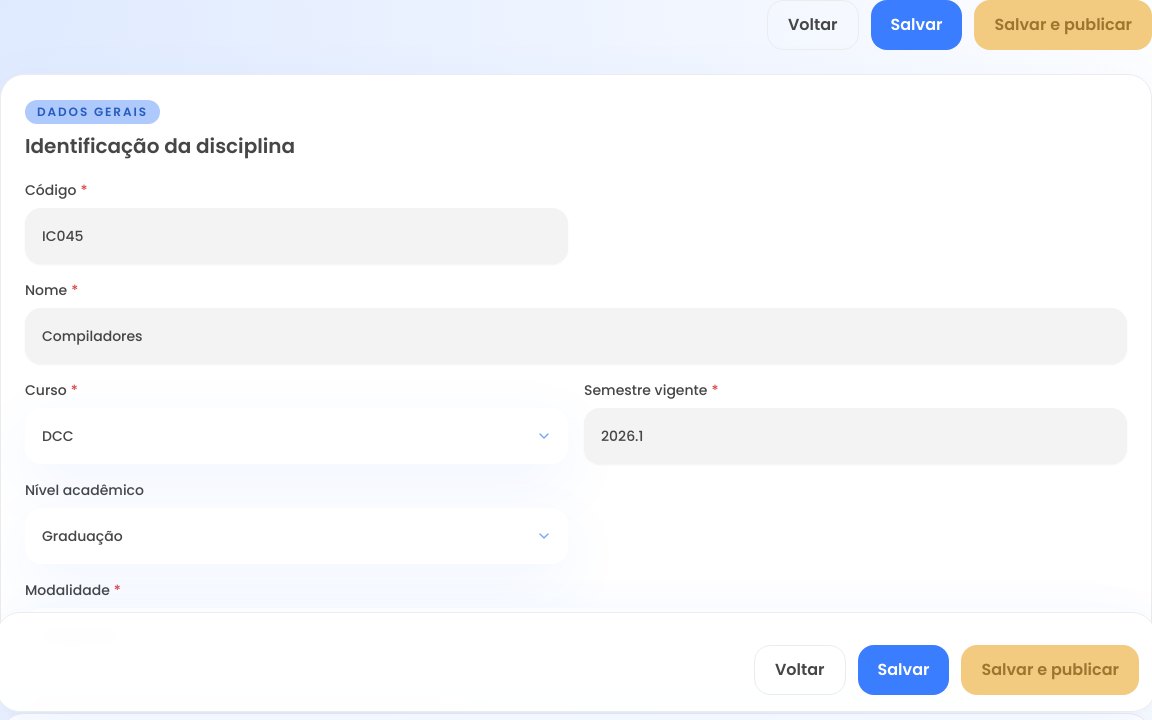
Test case: DisciplineEditorForm publish validation › impede que a disciplina seja cadastrada como pré-requisito de si mesma
Click the 2nd button "Salvar" at (903, 670), box [858,645,949,695]
(page scrolled)
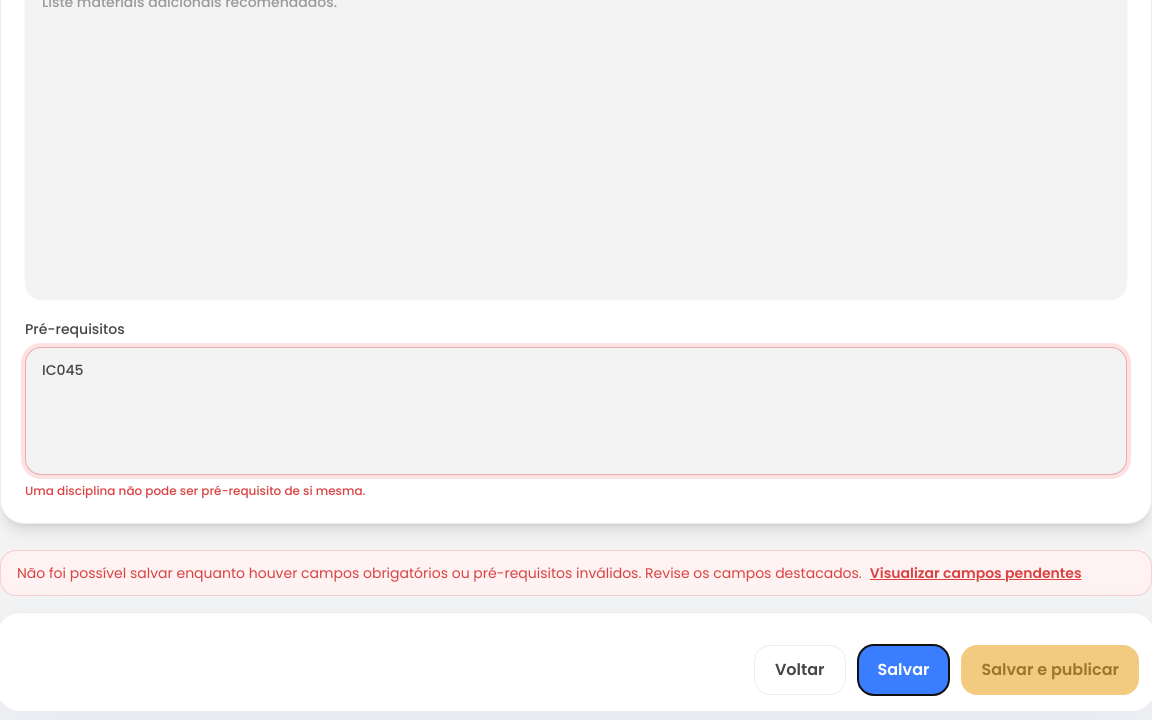
Result: the text "Uma disciplina não pode ser pré-requisito de si mesma." is shown at [25,482,366,499]
